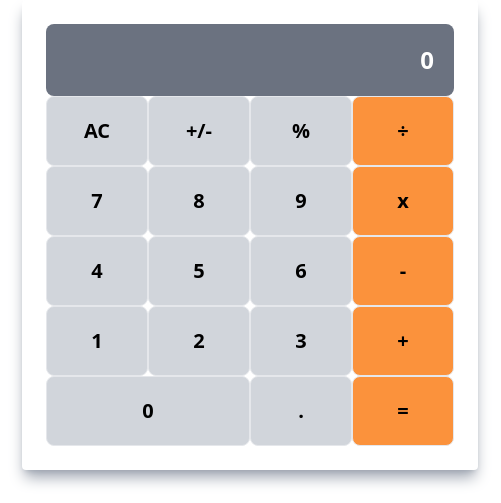
Calculator › updates the displayValue when a button is clicked
The width and height of the screenshot is (501, 503).
Click the button "5": (199, 271) [148, 236, 250, 306]
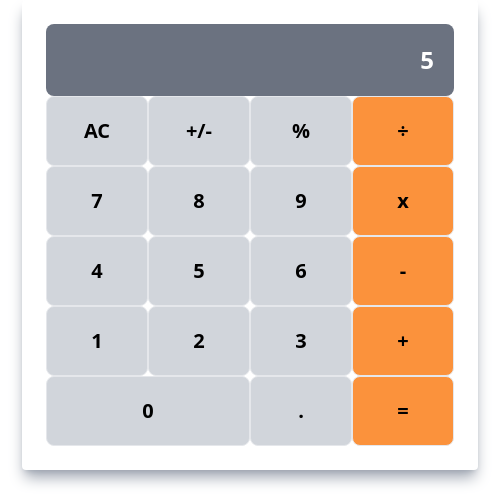
Expected: the field with test id "display" holds "5", [46, 24, 454, 96]
